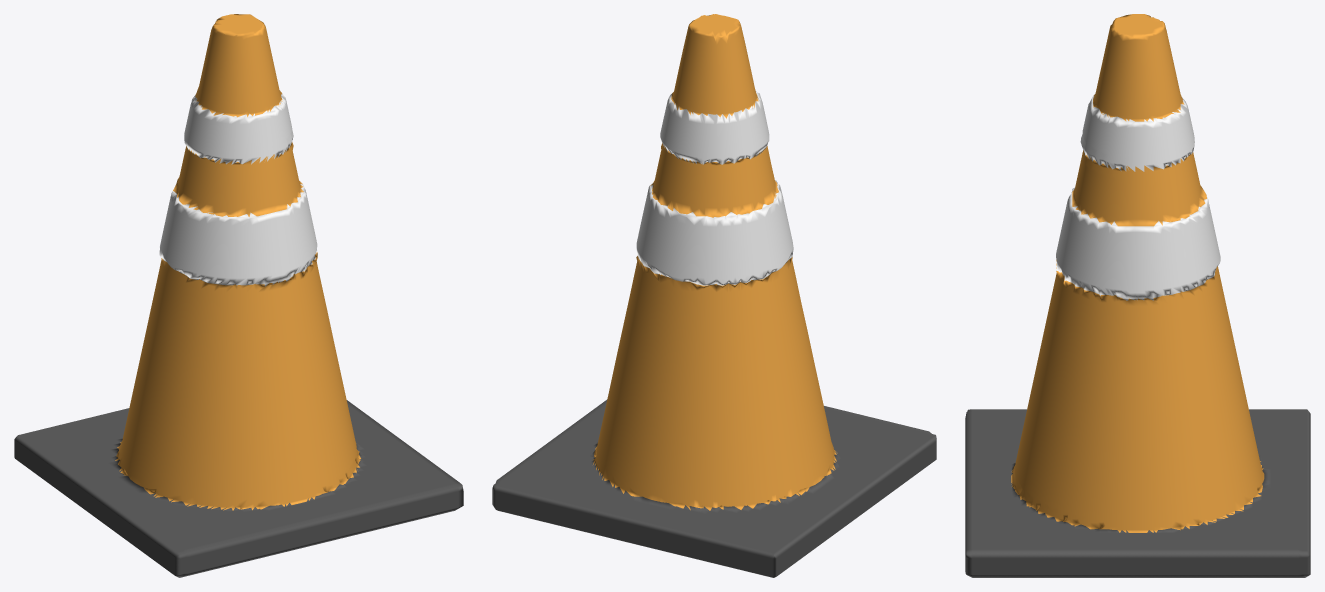
The model's file is traffic_cone.glb.
3 renders of one model, left to right at view 1: azimuth 30°, elevation 25°; view 2: azimuth 150°, elevation 25°; view 3: azimuth 270°, elevation 25°, orthographic. The views are drawn at different scales.
Parts seen in each view (by area): view 1: IronSmith model; view 2: IronSmith model; view 3: IronSmith model.
Part boxes in pixels (x1=…): IronSmith model: x1=14, y1=14, x2=463, y2=577; IronSmith model: x1=492, y1=14, x2=936, y2=577; IronSmith model: x1=965, y1=14, x2=1310, y2=577.
Bounding box in the file's own units: 4.4 × 6.8 × 4.4.
